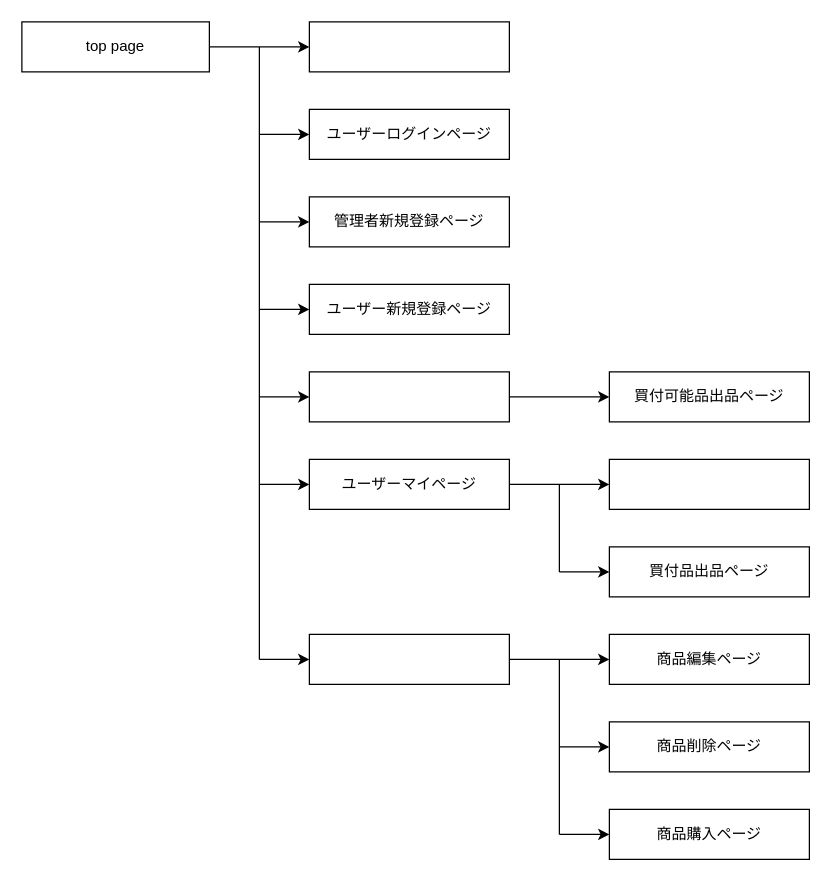
Image size: 831x881. Some labels were removed from this diagram. Each missing label, with the box of its shape:
商品詳細ページ: (308, 633, 509, 684)
管理者マイページ: (308, 371, 509, 422)
管理者ログインページ: (308, 21, 509, 72)
買付可能品購入ページ: (608, 458, 809, 509)
